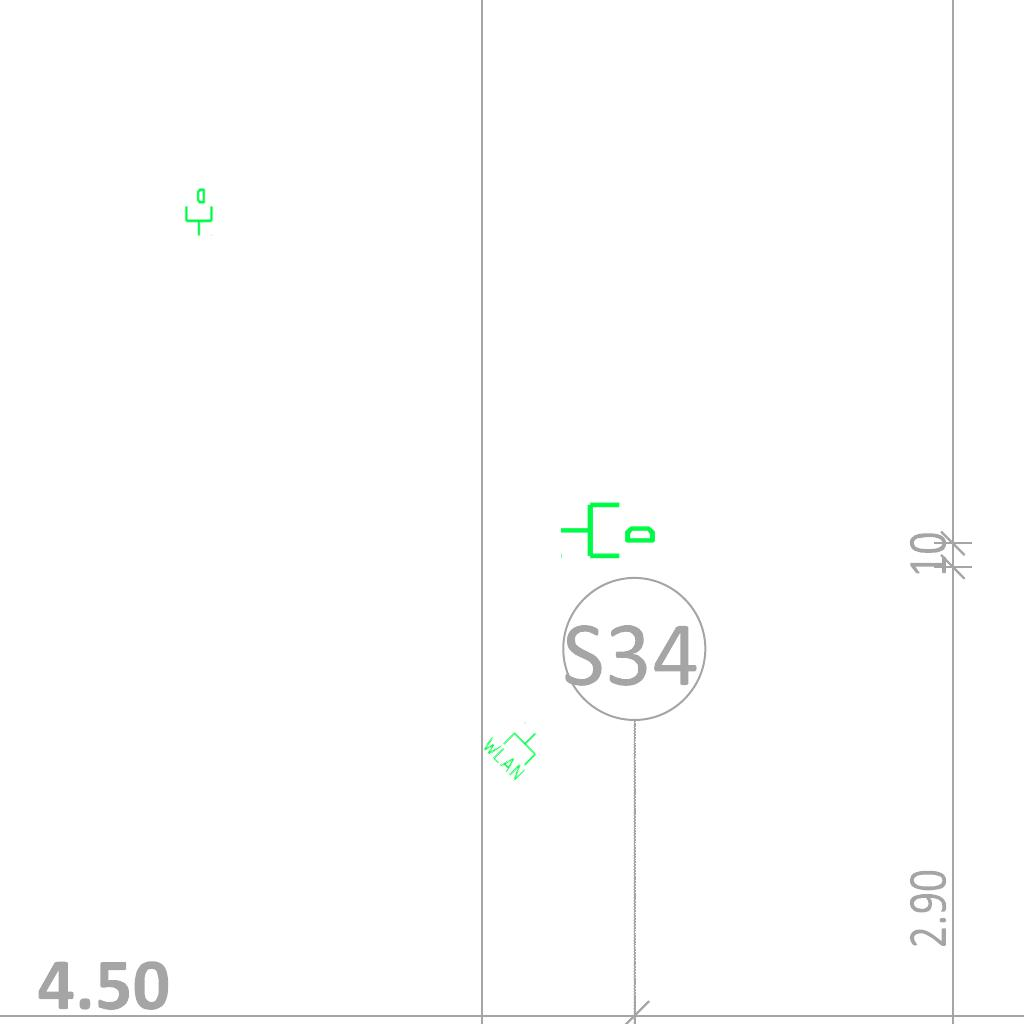Datenanschluss_einfach: (558, 494, 658, 563), (181, 187, 215, 237)
WLAN: (478, 710, 552, 784)
